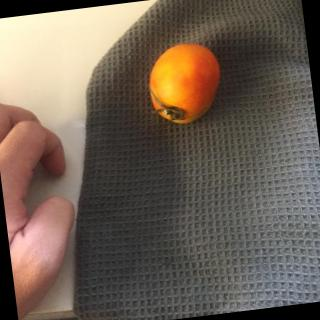Tomat: (133, 37, 240, 136)
